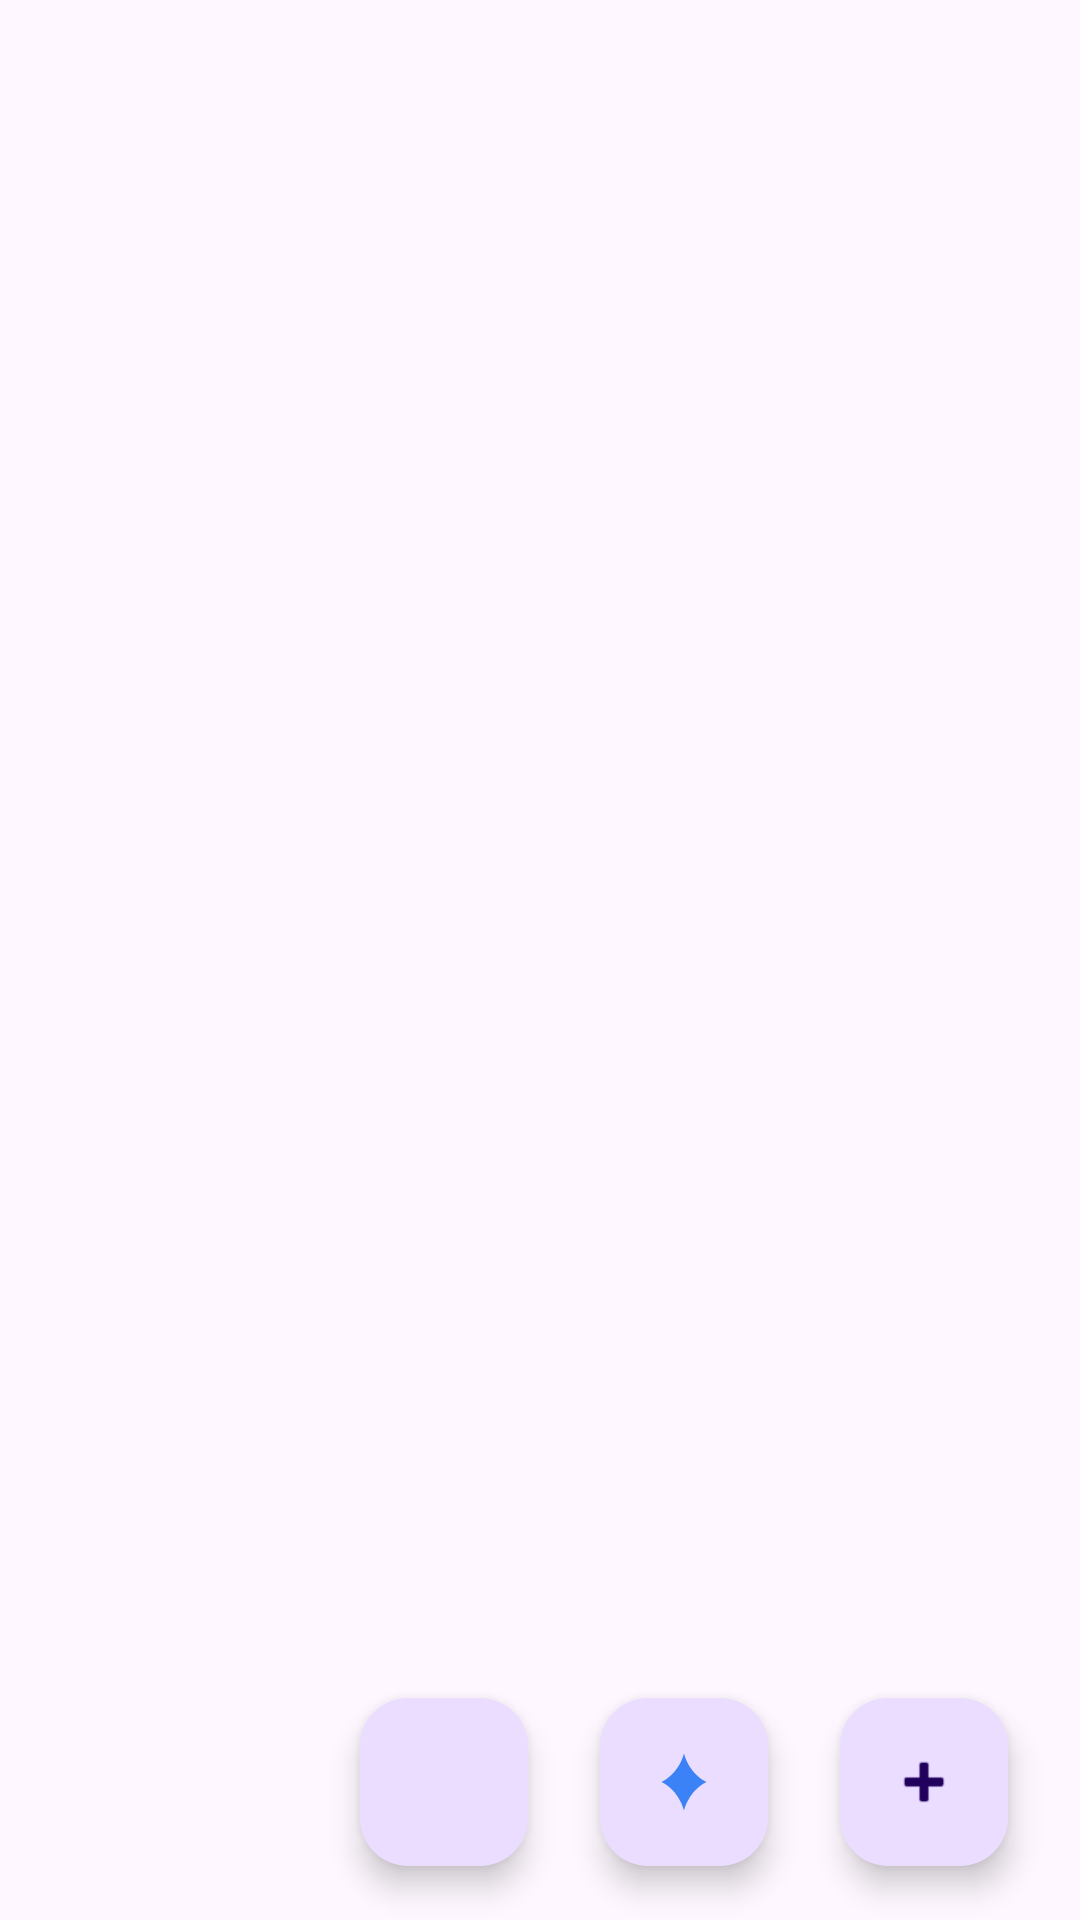

Icons on this 1080px×1920px Android screen, each with its box as bbox=[x1, y1, x2, y2]:
Create: bbox=[840, 1698, 1011, 1884]
Create deck with AI: bbox=[600, 1698, 769, 1884]
